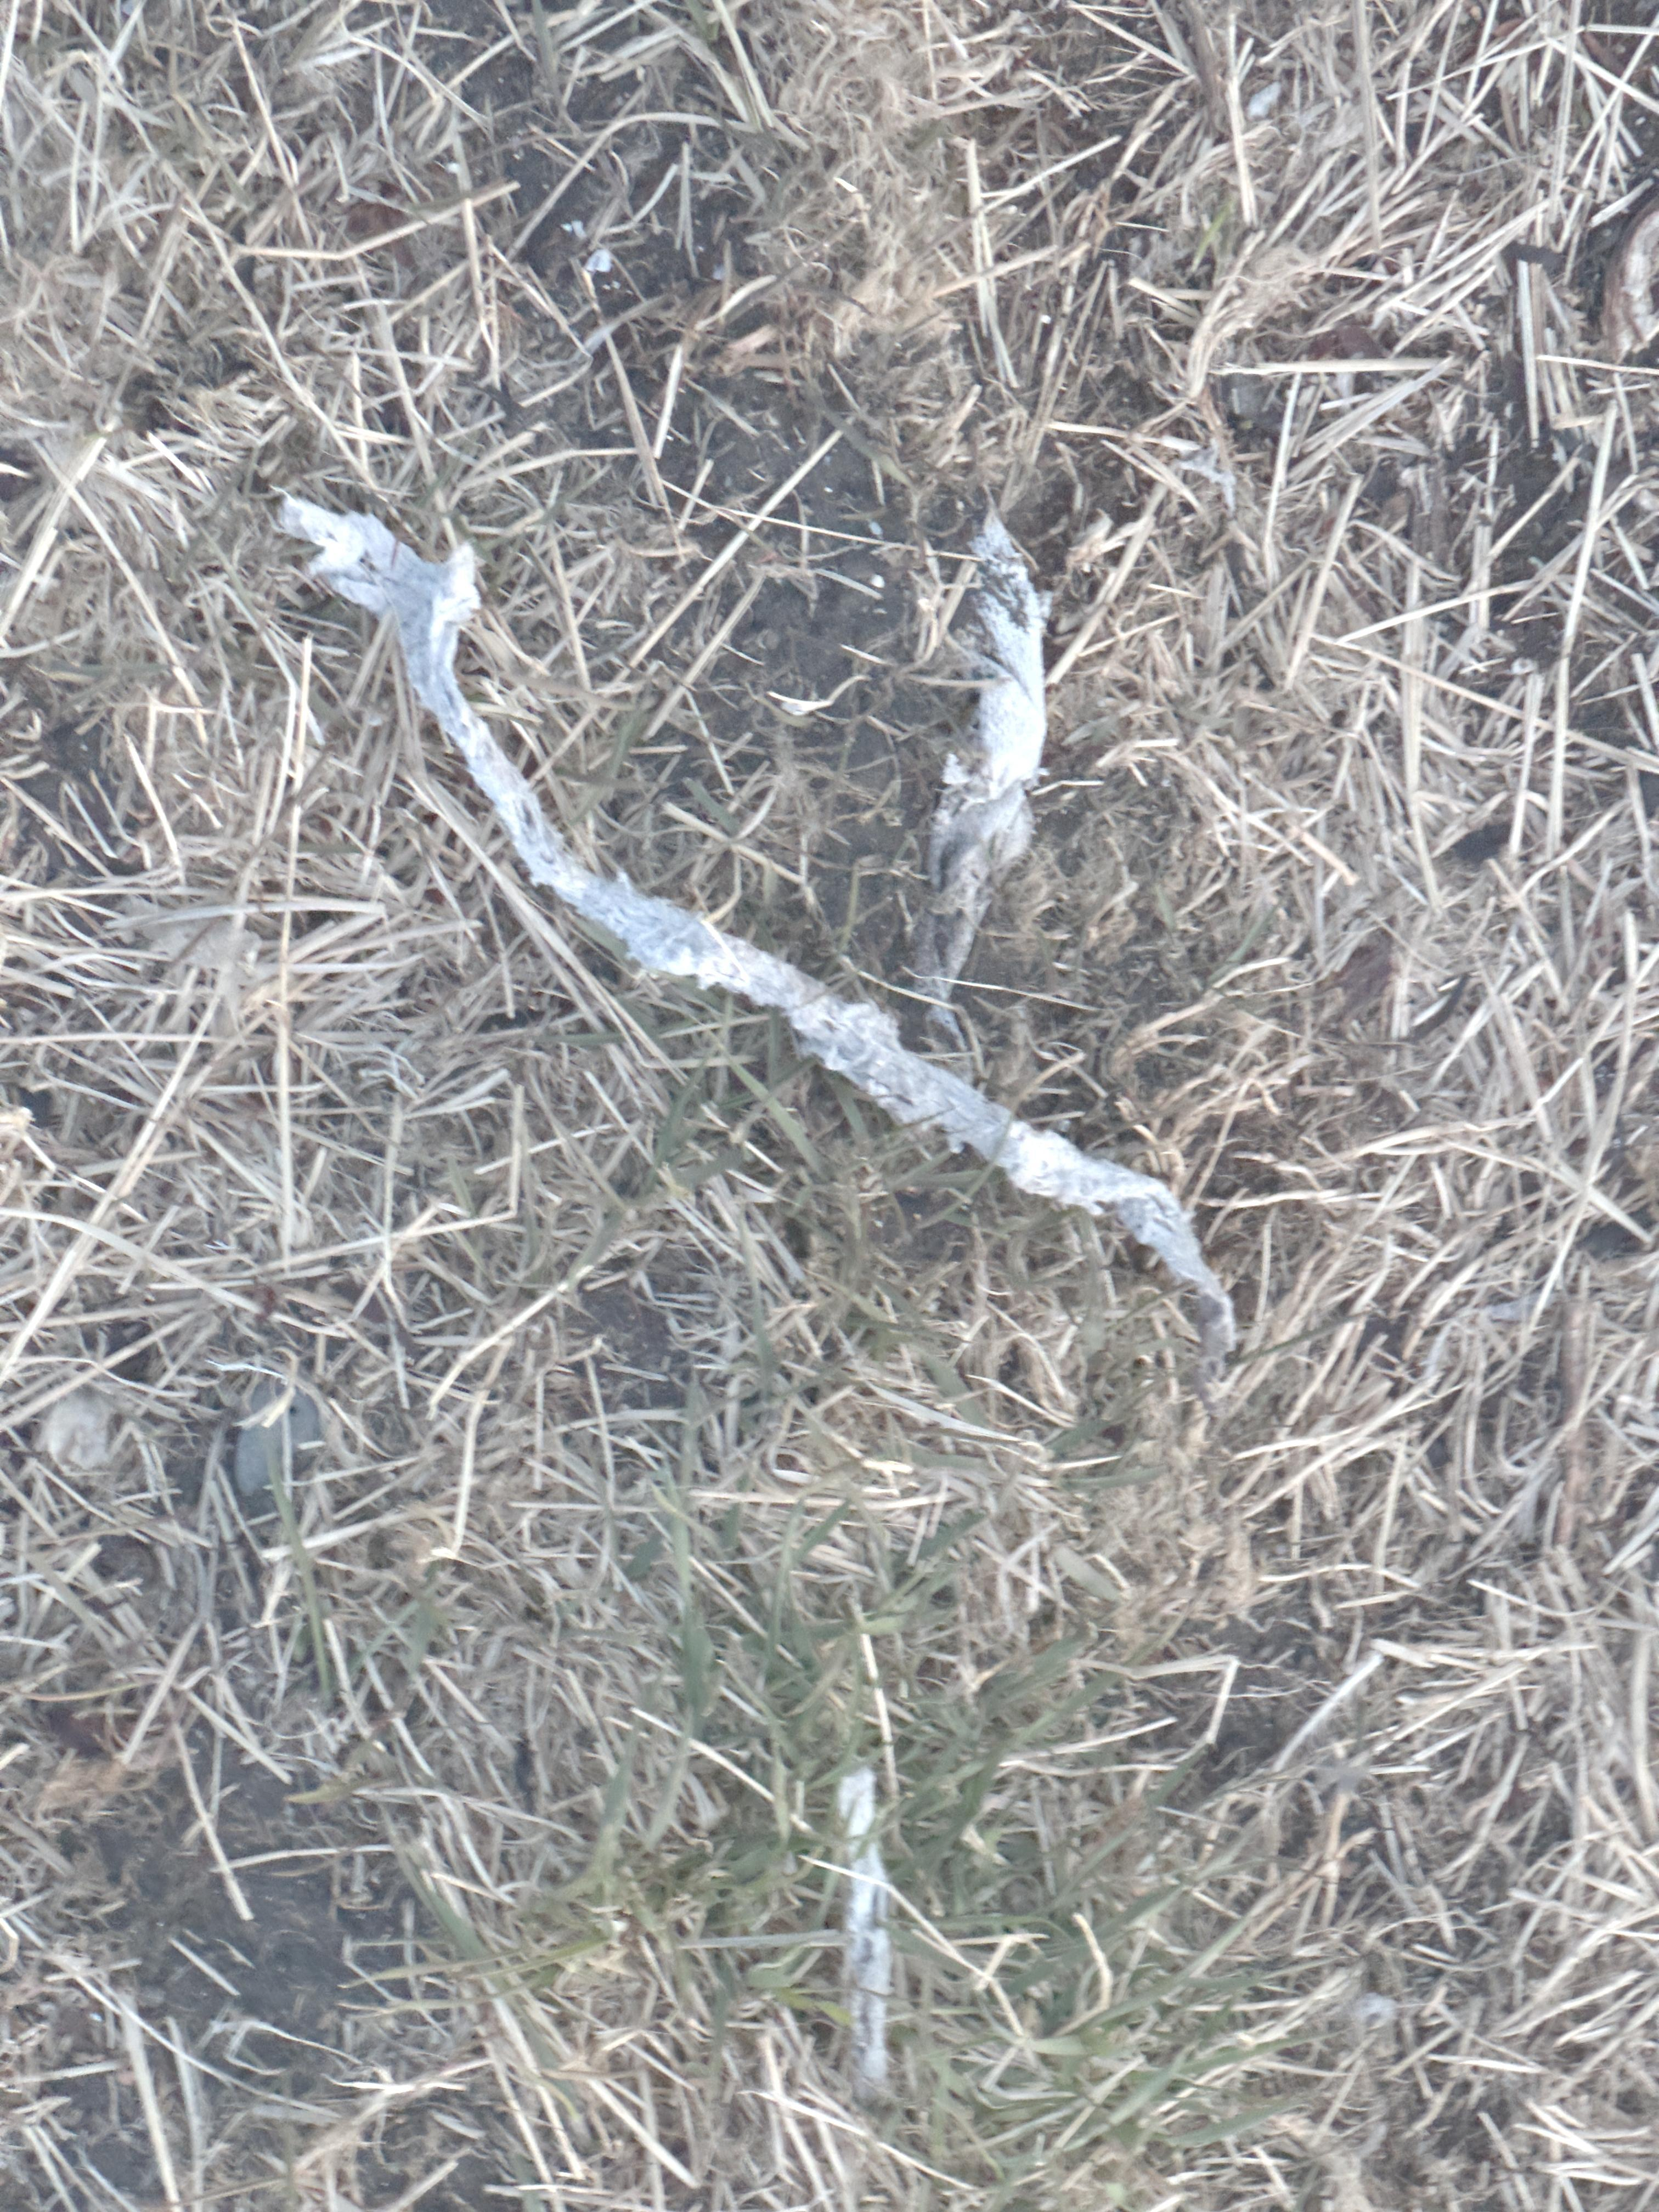trash: (281, 497, 1231, 1391), (916, 514, 1046, 1032), (838, 1767, 890, 2100)
